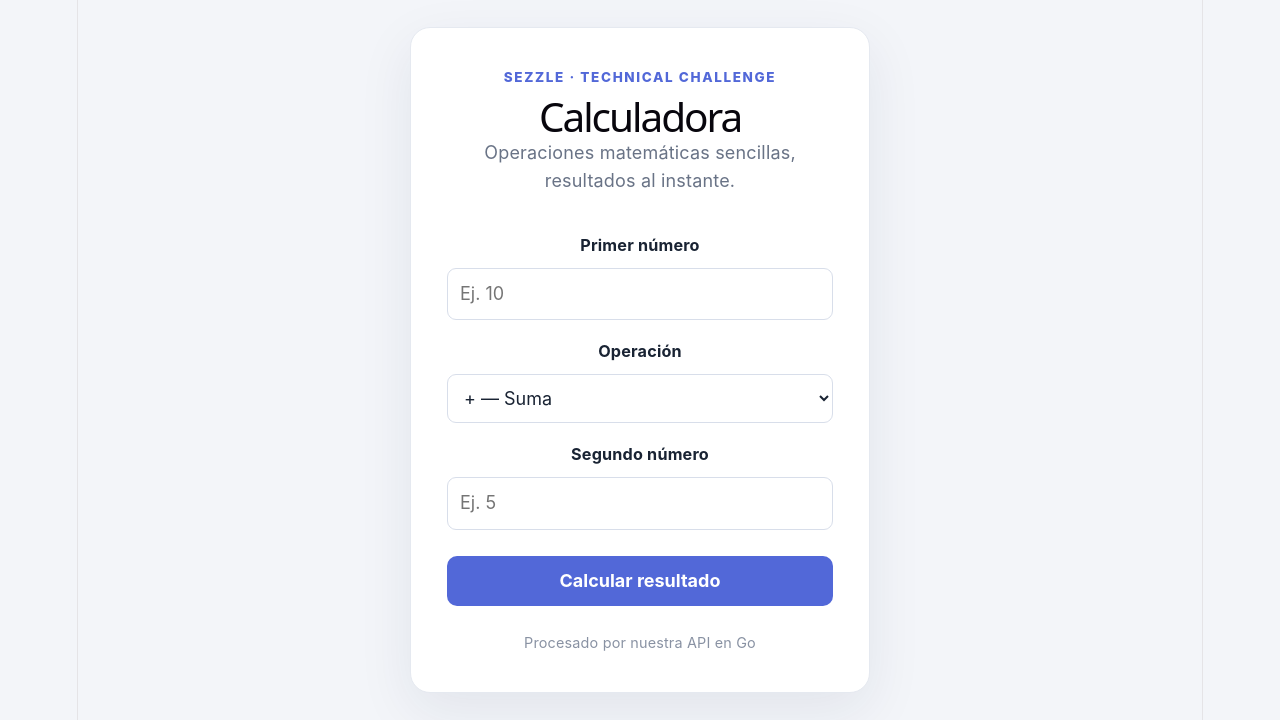
Test case: Calculator › calculates percentage correctly
Type "25" into the number field labelled "Primer número".
click(640, 294); type("25")  # box [447,268,833,320]
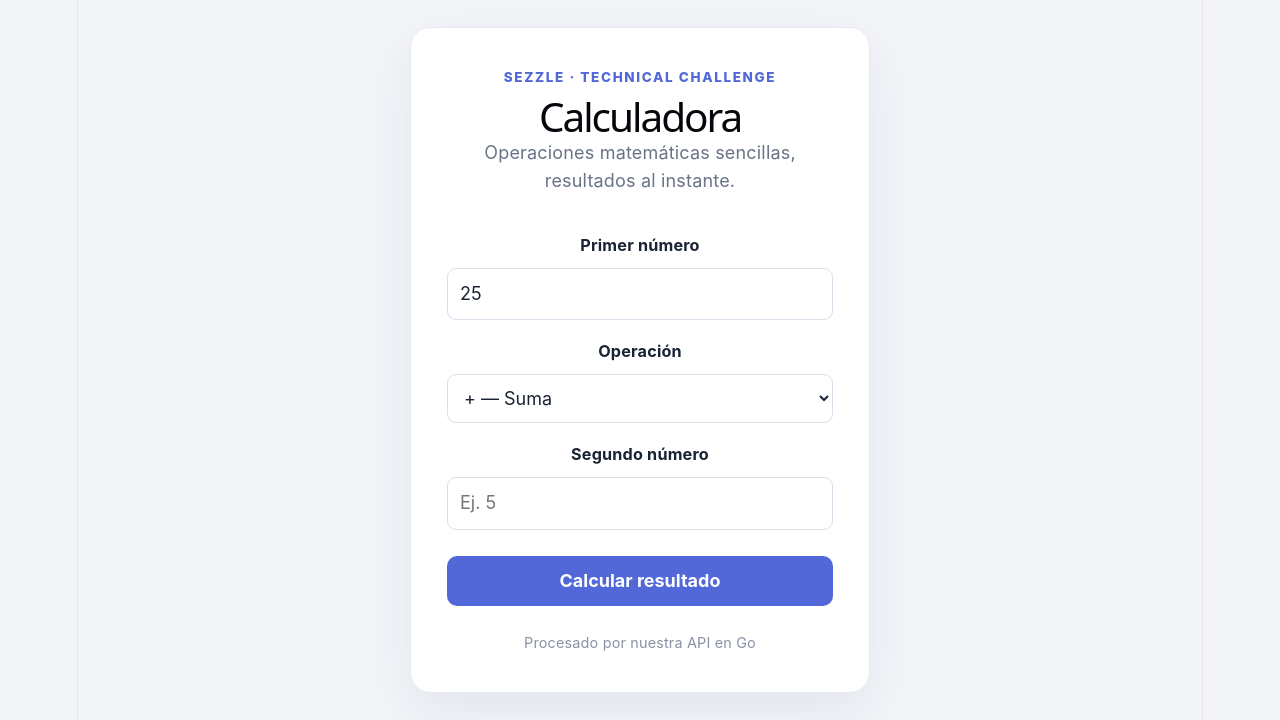
Type "100" into the number field labelled "Segundo número".
click(640, 504); type("100")  # box [447,478,833,530]
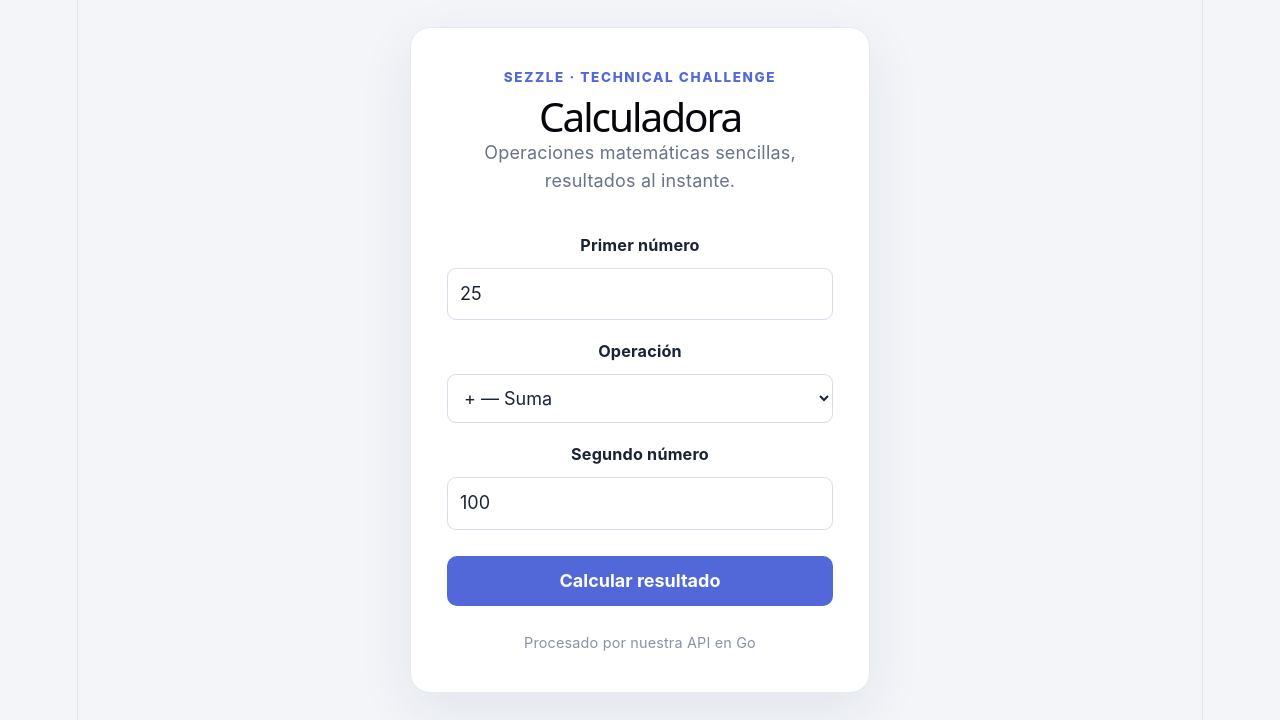
Select "% — Porcentaje" in the dropdown labelled "Operación" at (640, 399), box [447,374,833,423]
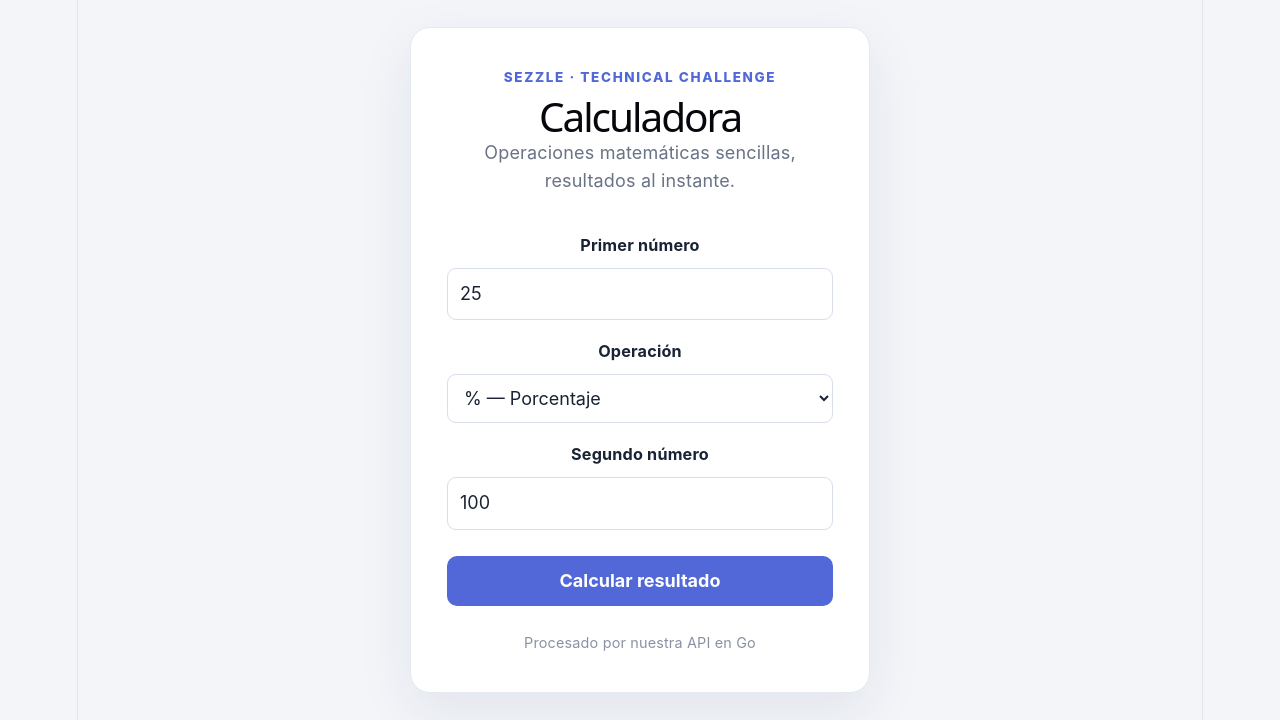
Click the button "Calcular resultado".
click(640, 581)  # box [447,556,833,606]
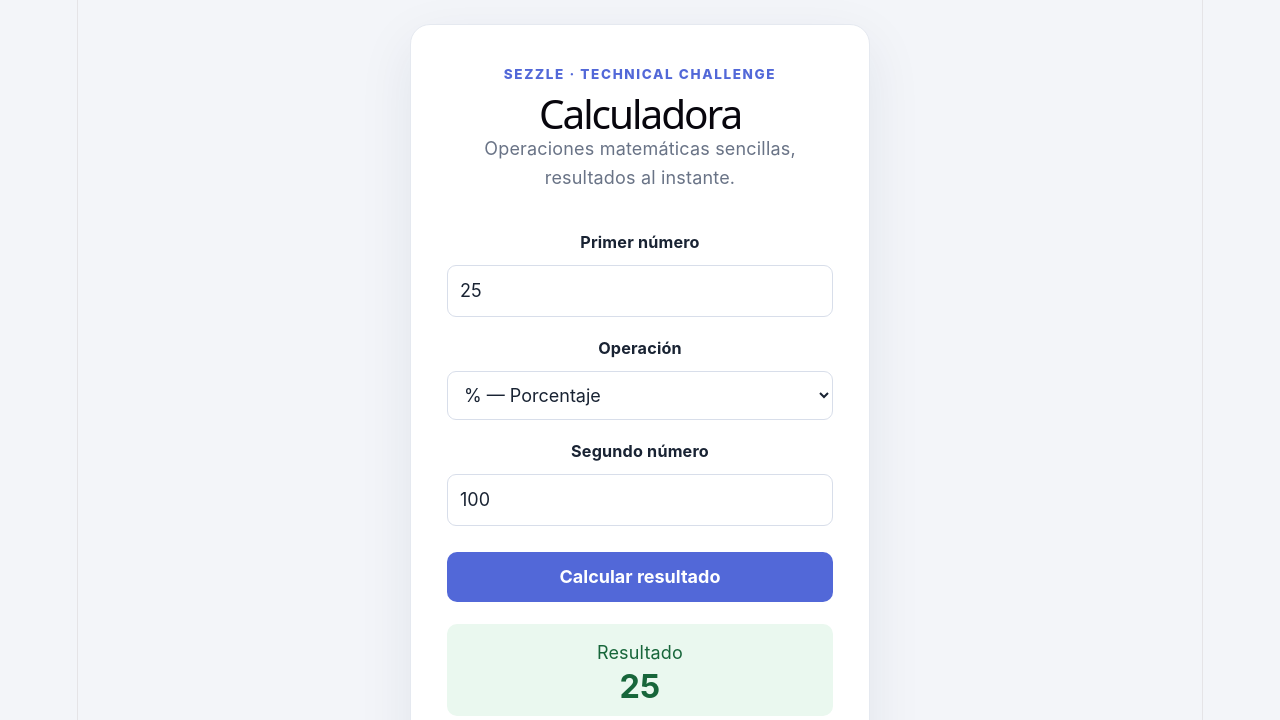
Expected: the text "25" is shown, [620,667,660,706]
